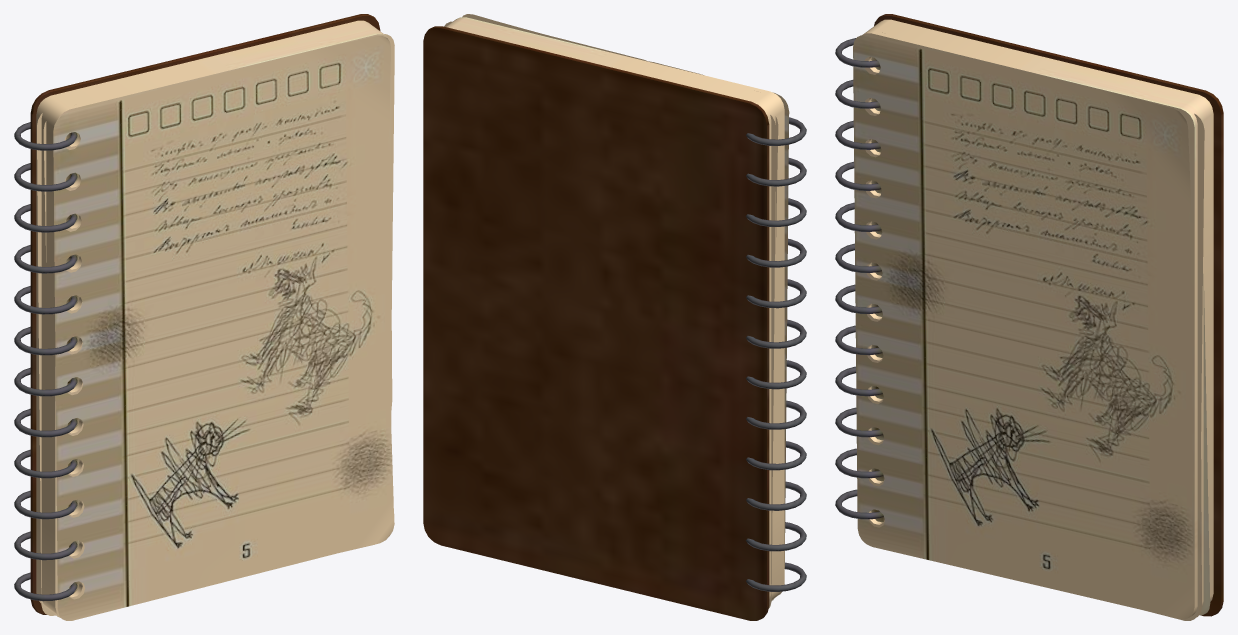
3 renders of one model, left to right at view 1: azimuth 30°, elevation 25°; view 2: azimuth 150°, elevation 25°; view 3: azimuth 330°, elevation 25°, orthographic.
Visible parts, largest first — view 1: Note_wire_176026026_0; view 2: Note_wire_176026026_0; view 3: Note_wire_176026026_0.
Boxes of the visible parts, box(x1,y1,x2,y2) form: Note_wire_176026026_0: box(14, 14, 394, 620); Note_wire_176026026_0: box(423, 14, 806, 620); Note_wire_176026026_0: box(835, 14, 1223, 620).
Size of the model in its own units: 7.64 by 10.27 by 1.13.
Materials: 1 (1 with a texture image).
